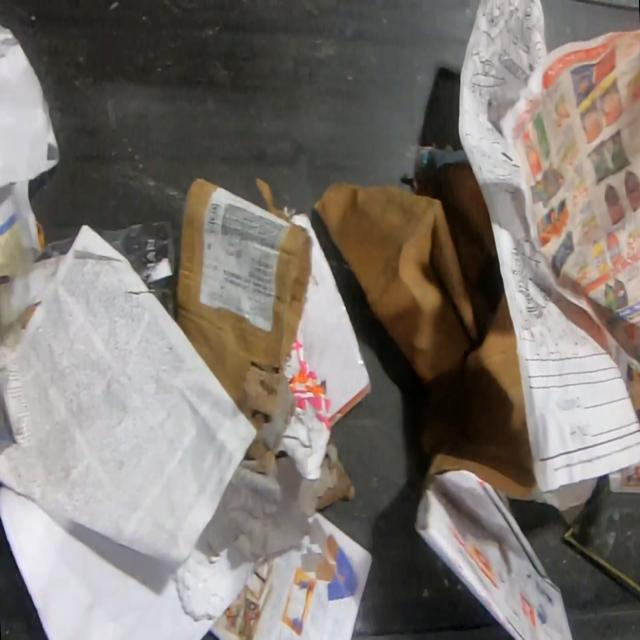cardboard: (310, 159, 536, 503), (174, 173, 311, 432)
